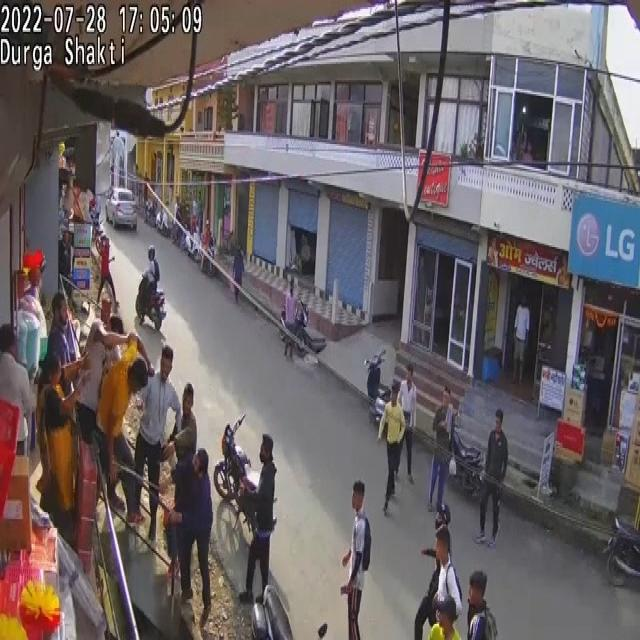fight: (132, 346, 185, 544), (97, 343, 150, 530), (37, 354, 82, 545), (166, 446, 213, 618), (234, 434, 276, 605), (16, 259, 48, 380)
non-fight: (412, 521, 462, 640), (474, 406, 508, 546), (340, 480, 369, 640), (376, 381, 404, 510), (429, 386, 455, 513), (396, 362, 417, 480), (94, 235, 118, 306), (512, 297, 530, 383), (285, 278, 303, 356), (484, 426, 508, 482), (58, 232, 73, 294), (143, 244, 160, 298), (232, 244, 245, 302), (201, 220, 213, 273)
